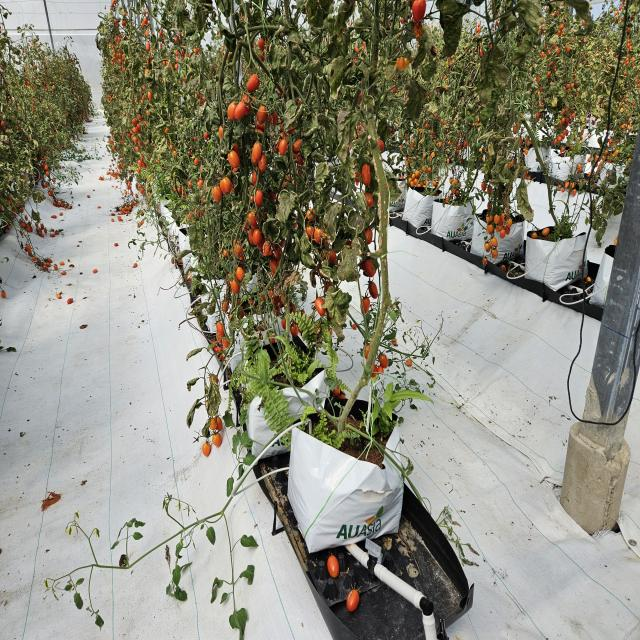Soilbag: (290, 408, 405, 550), (242, 346, 322, 456)
Tomato: (221, 81, 266, 340), (358, 93, 382, 399)
plant: (297, 0, 397, 438), (250, 29, 302, 340)
